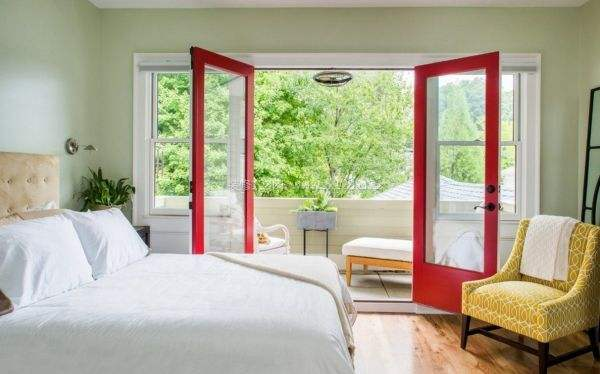床: (0, 247, 354, 374)
枕头: (4, 212, 145, 298)
